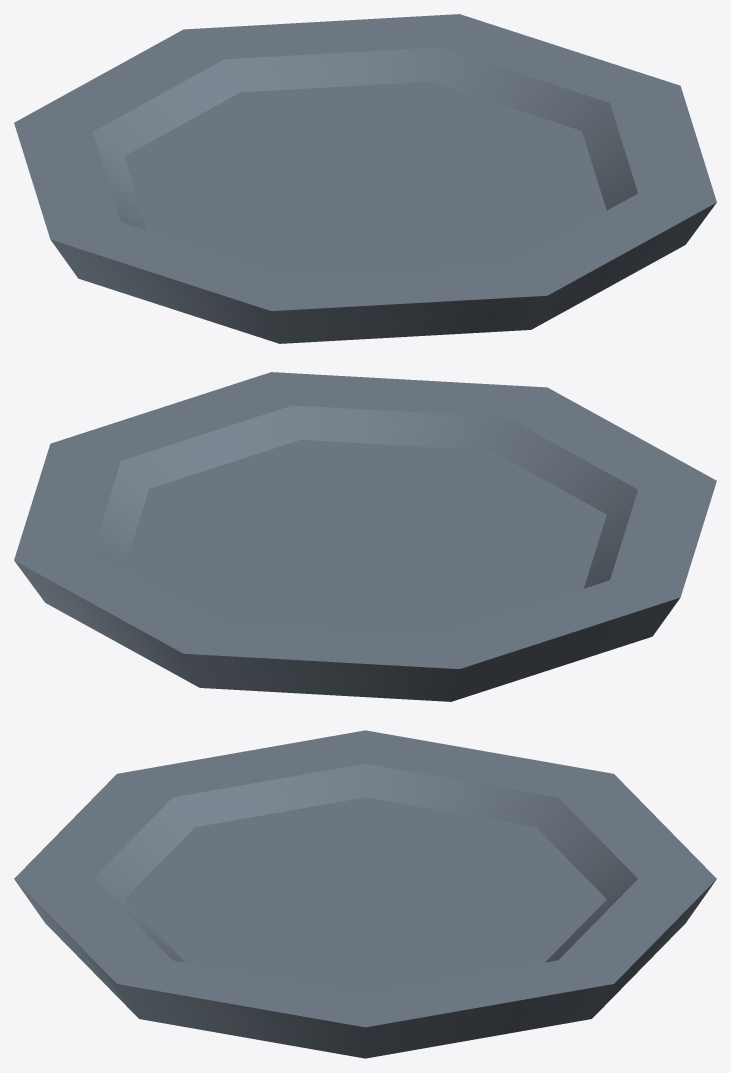
File: Plate_1_C.fbx
The picture shows the model from 3 angles, top to bottom: view 1: azimuth 30°, elevation 25°; view 2: azimuth 150°, elevation 25°; view 3: azimuth 270°, elevation 25°; orthographic projection. The views are drawn at different scales.
Parts seen in each view (by area): view 1: Plate_1_C; view 2: Plate_1_C; view 3: Plate_1_C.
Part boxes in pixels (<box>): Plate_1_C: <box>14,14,716,343</box>; Plate_1_C: <box>14,372,716,701</box>; Plate_1_C: <box>14,730,716,1058</box>.
Size of the model in its own units: 38.95 by 2.72 by 38.95.
